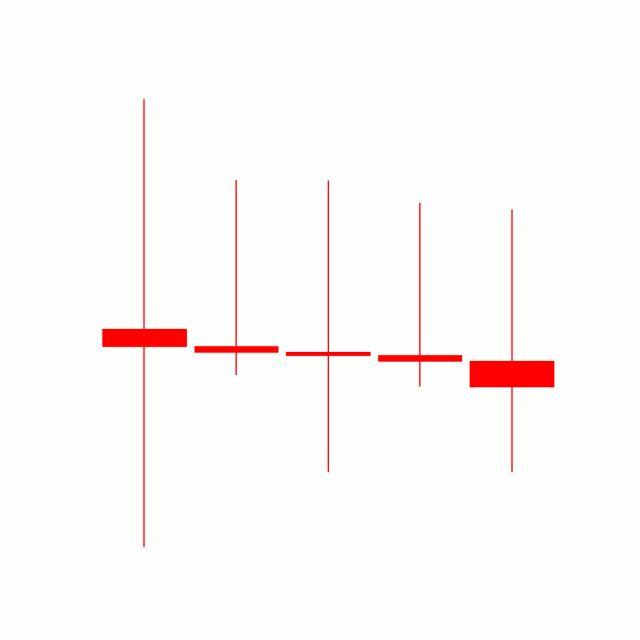Spinning Top: (374, 201, 468, 390)
